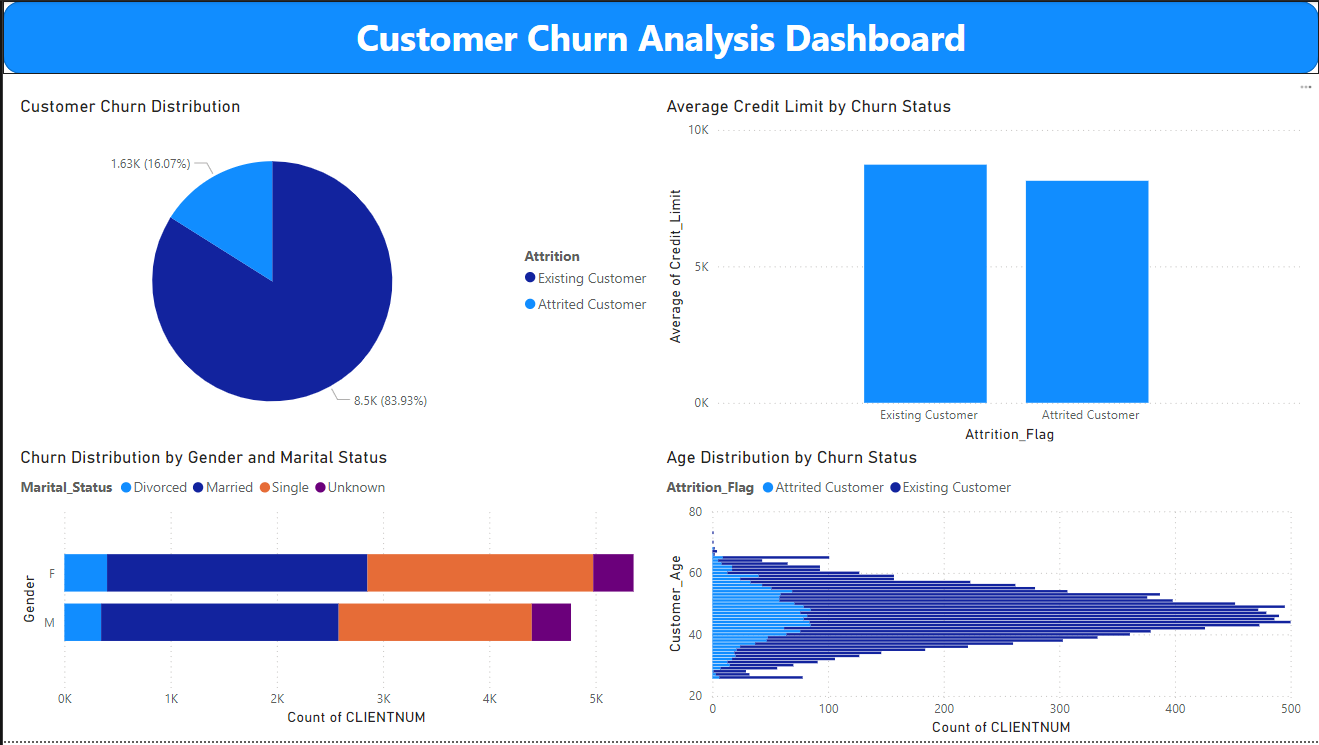

The page's visual inventory and layout, read from the dashboard file:
{"tool":"powerbi","page":{"name":"Page 1","canvas":[1280,720],"ordinal":0},"visuals":[{"type":"pieChart","title":"Customer Churn Distribution","fields":{"Category":["BankChurners.Attrition_Flag"],"Y":["CountNonNull(BankChurners.CLIENTNUM)"]},"box":[11.7,92.4,628.3,341.4],"z":0},{"type":"barChart","title":"Churn Distribution by Gender and Marital Status","fields":{"Category":["BankChurners.Gender"],"Series":["BankChurners.Marital_Status"],"Y":["CountNonNull(BankChurners.CLIENTNUM)"]},"box":[11.7,433.8,628.3,276.2],"z":1000},{"type":"clusteredColumnChart","title":"Average Credit Limit by Churn Status","fields":{"Category":["BankChurners.Attrition_Flag"],"Y":["Avg(BankChurners.Credit_Limit)"]},"box":[640,92.4,627.4,341.4],"z":2000},{"type":"barChart","title":"Age Distribution by Churn Status","fields":{"Series":["BankChurners.Attrition_Flag"],"Y":["CountNonNull(BankChurners.CLIENTNUM)"],"Category":["BankChurners.Customer_Age"]},"box":[640,433.8,627.4,286],"z":3000},{"type":"shape","box":[0,0,1280,71],"z":4000}]}

Visuals, with their boxes in screenshot pixels (x1, y1, x2, y2), scaled from the page's 1280x720 canvas onto the 1319x745 screenshot:
"Customer Churn Distribution" pieChart: [left=12, top=96, right=660, bottom=449]
"Churn Distribution by Gender and Marital Status" barChart: [left=12, top=449, right=660, bottom=735]
"Average Credit Limit by Churn Status" clusteredColumnChart: [left=660, top=96, right=1306, bottom=449]
"Age Distribution by Churn Status" barChart: [left=660, top=449, right=1306, bottom=744]
shape: [left=0, top=0, right=1318, bottom=73]
